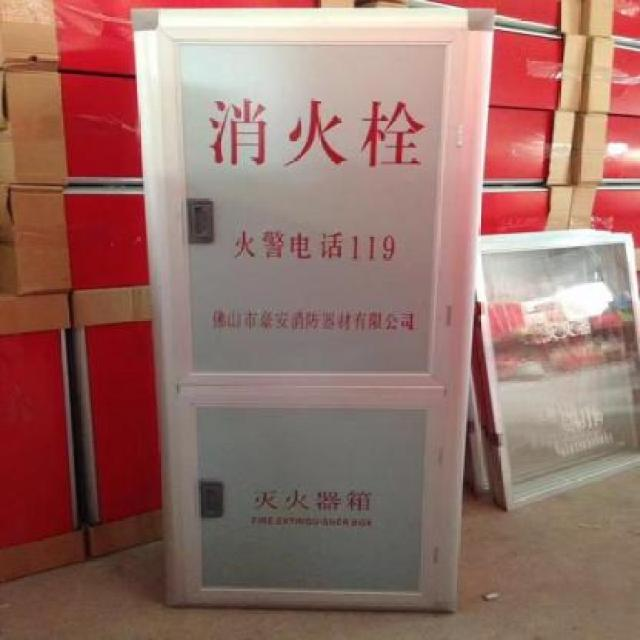firehydrant: (122, 5, 500, 619)
